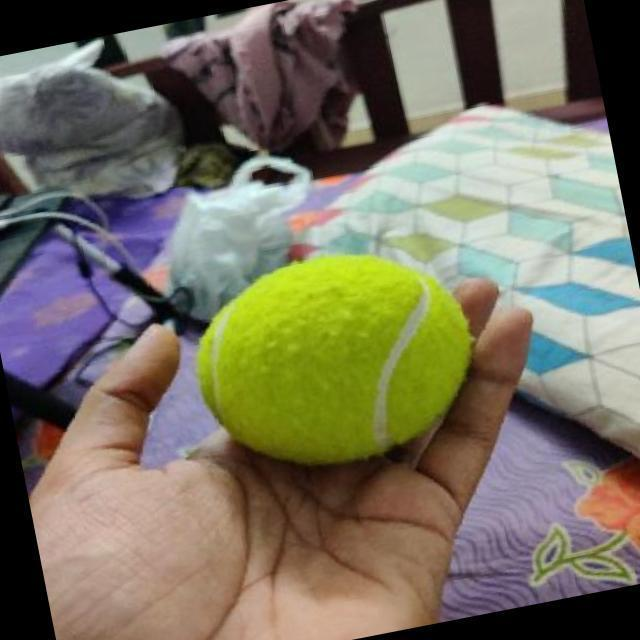-: (161, 219, 514, 512)
